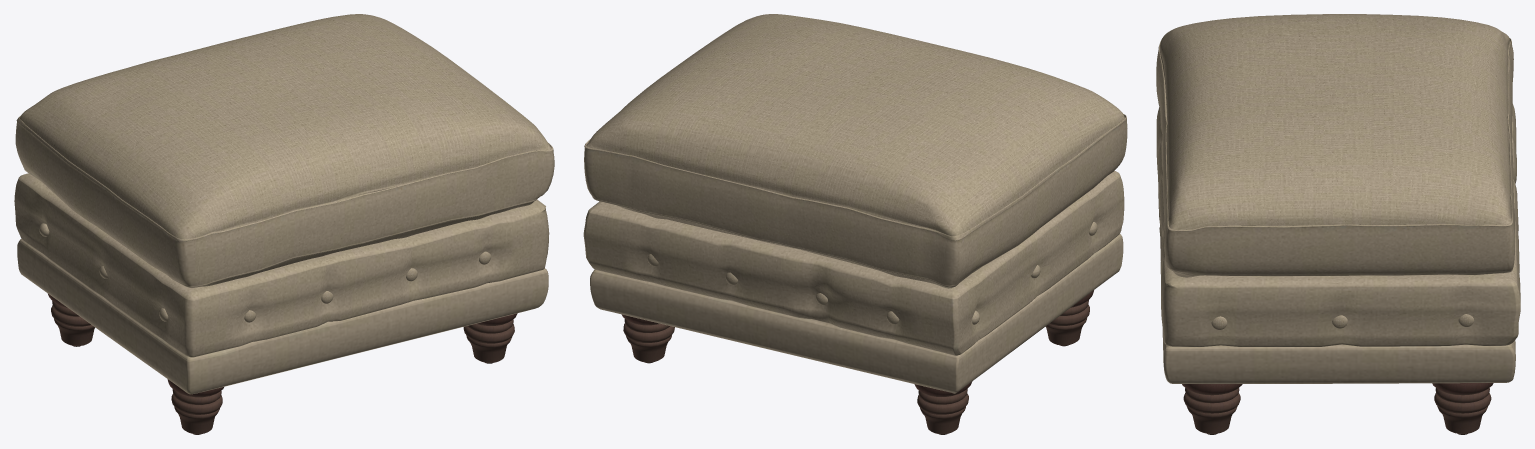
File: sofa_B07263589Q.glb
3 views of the same model, side by side, from view 1: azimuth 30°, elevation 25°; view 2: azimuth 150°, elevation 25°; view 3: azimuth 270°, elevation 25° (orthographic). The views are drawn at different scales.
Parts seen in each view (by area): view 1: RootNode; view 2: RootNode; view 3: RootNode.
Part boxes in pixels (x1,y1,x2,y2): RootNode: (14, 14, 554, 434); RootNode: (583, 14, 1127, 434); RootNode: (1156, 14, 1520, 434).
Size of the model in its own units: 0.6836 by 0.4629 by 0.5408.
Materials: 1 (1 with a texture image).
